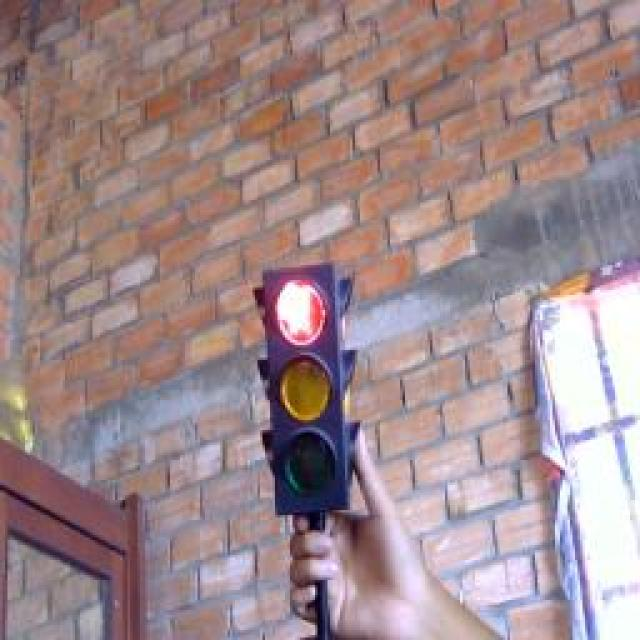-: (270, 272, 335, 352)
